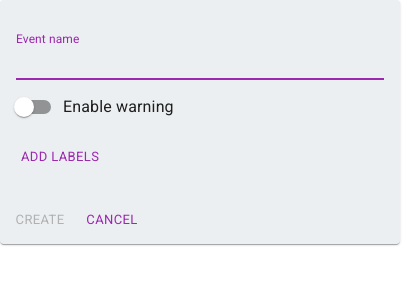
Test: EditEventCard › Event name validation › shows error and disables button for name duplicate
Type "Existing Event" into the field labelled "Event name" at x=200, y=64, box [16, 48, 384, 80]
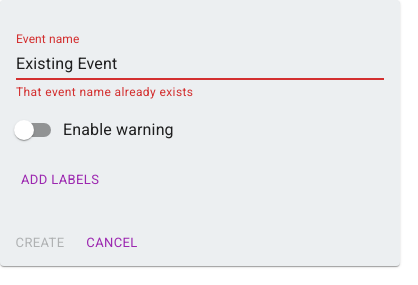
Check: the button "Create" is disabled, box [8, 228, 72, 258]
Check: the text "That event name already exists" is shown, box [16, 85, 193, 99]
